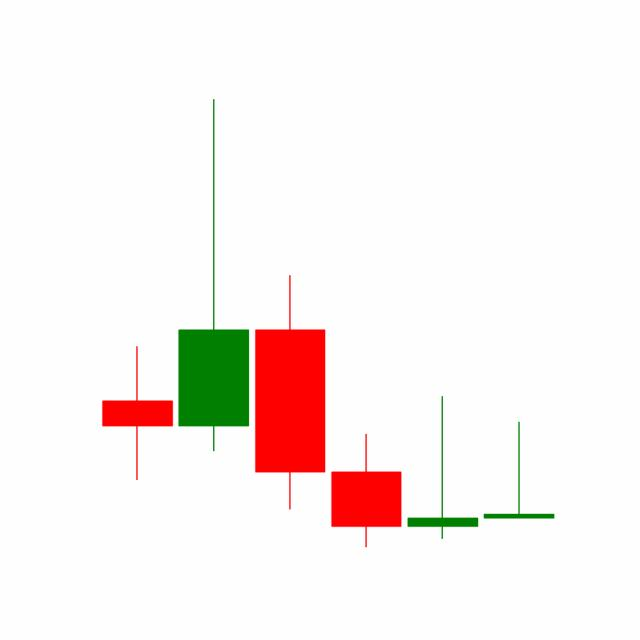Spinning Top: (403, 394, 481, 540)
